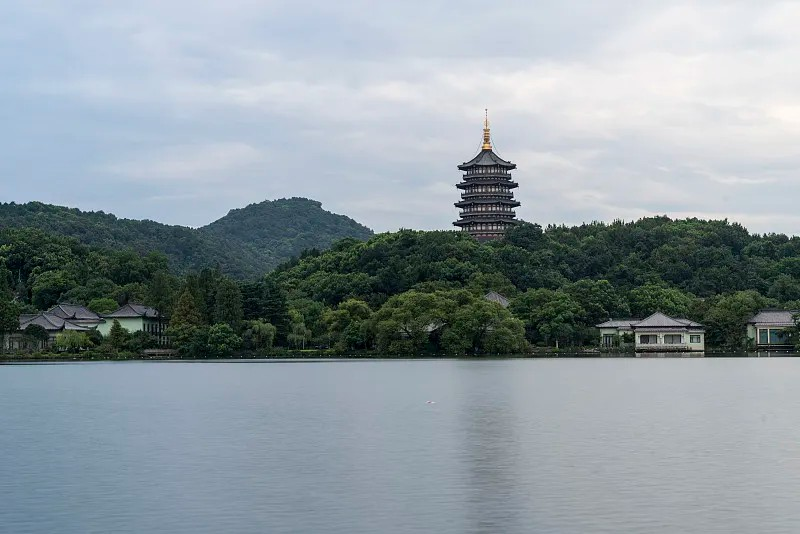Leifeng: (452, 107, 523, 239)
